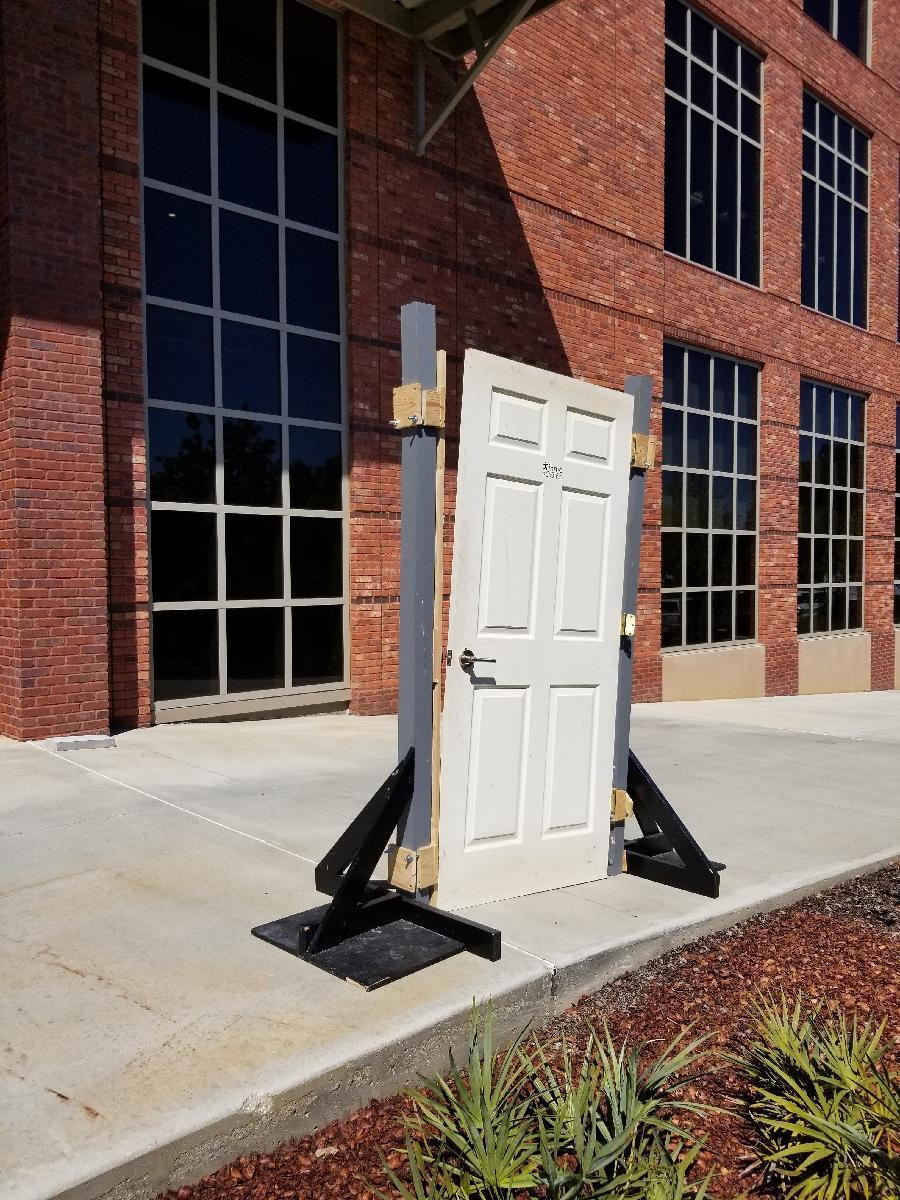door: (431, 344, 635, 914)
handle: (457, 648, 497, 674)
